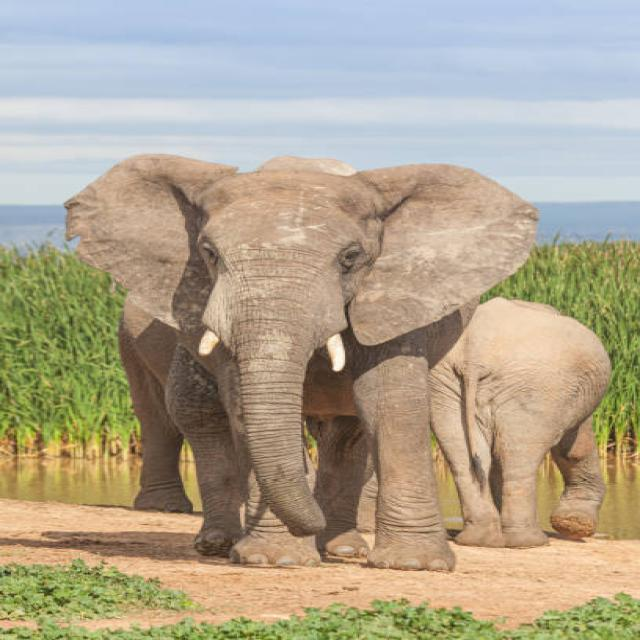Elephant: (49, 146, 511, 602), (388, 270, 636, 589)
